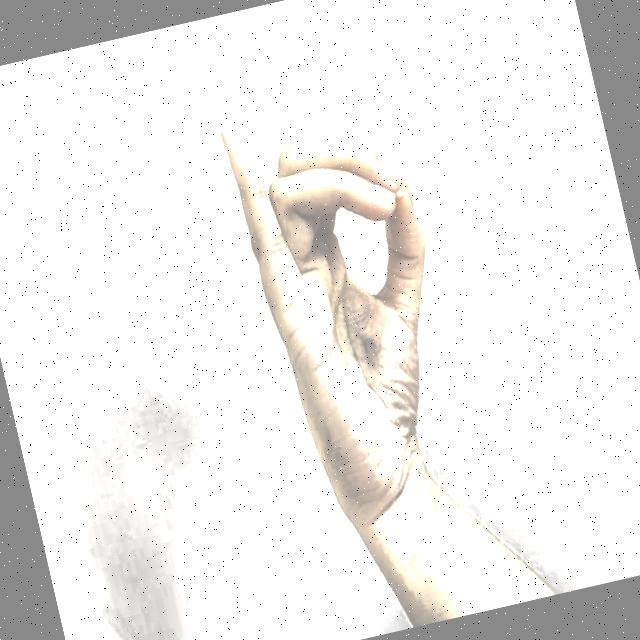Ou: (166, 45, 516, 554)
